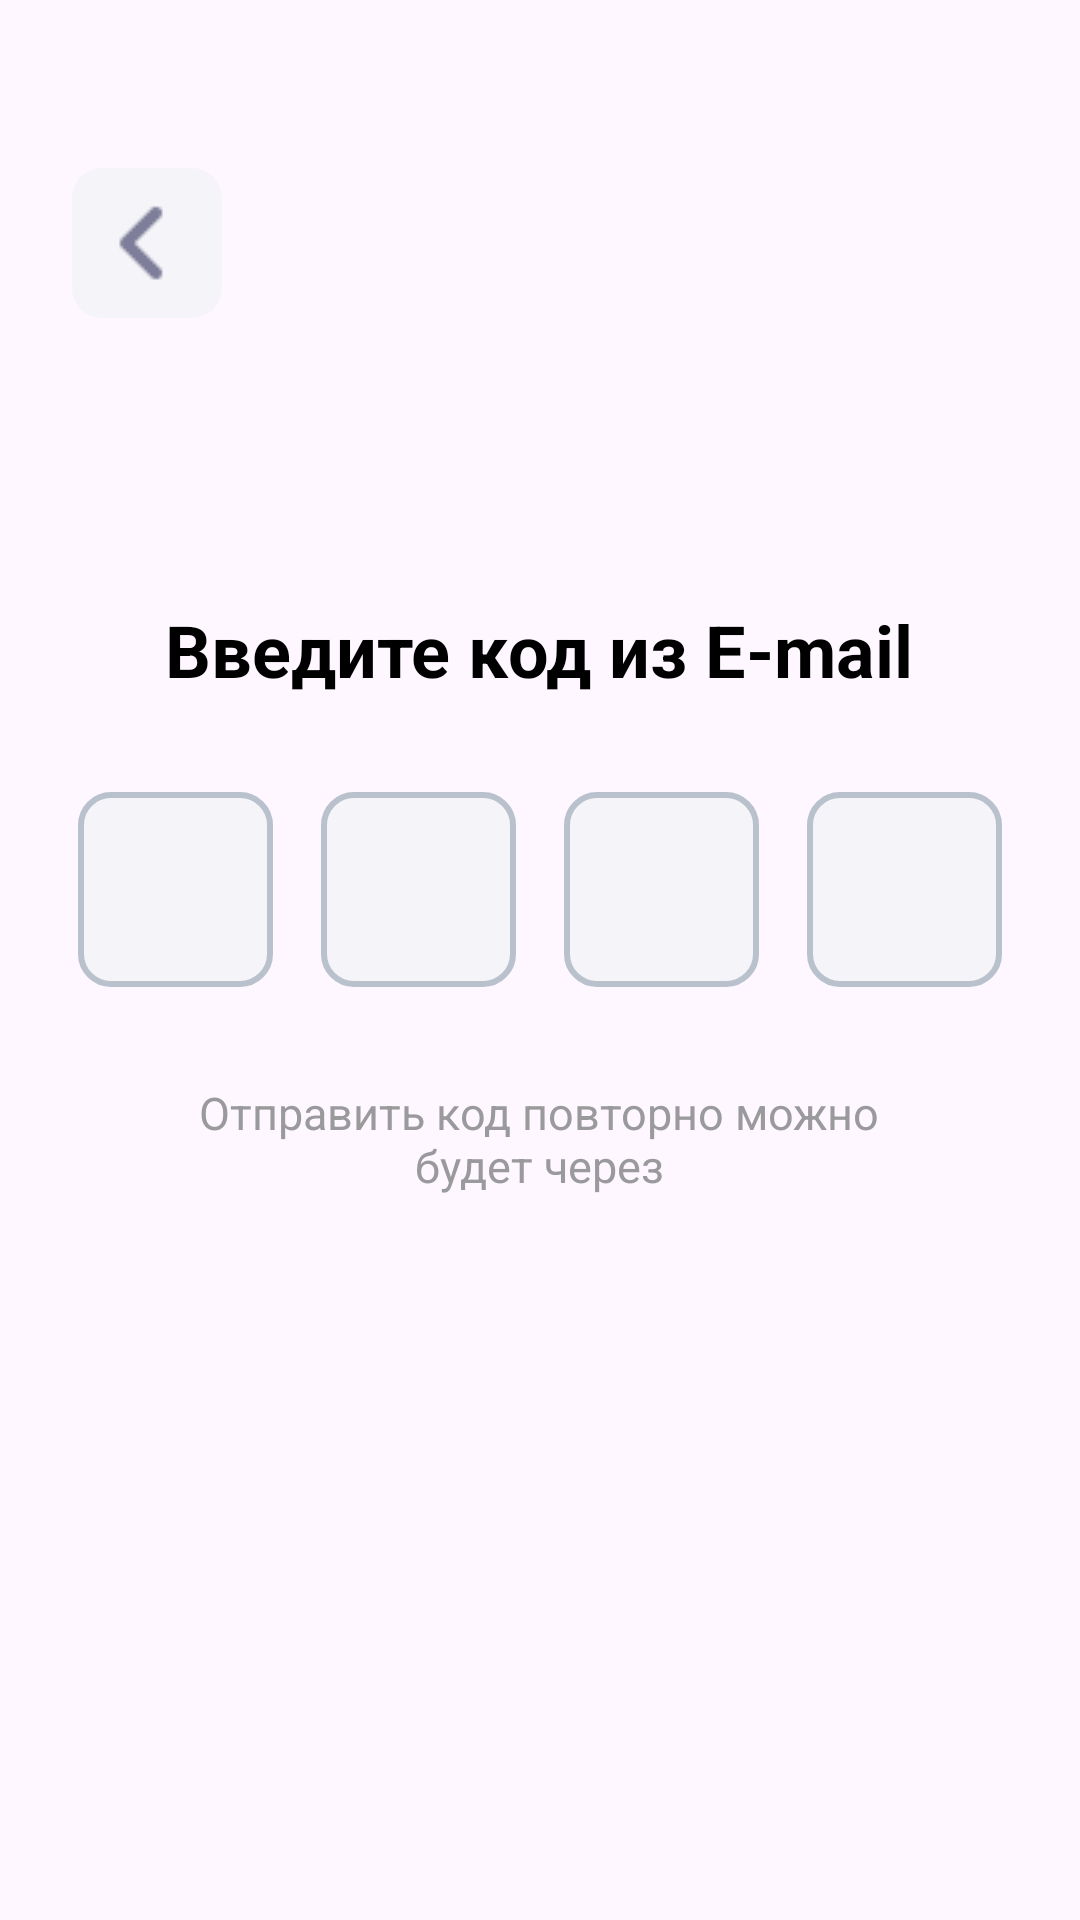

Icons on this 1080x1920 Android screen, each with its box as (x1, y1, x2, y2):
backarrow: (72, 168, 222, 318)
